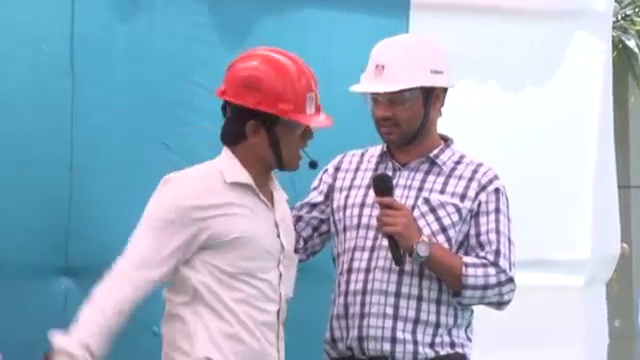helmet: (212, 45, 334, 130), (347, 31, 457, 96)
helmet_on: (211, 45, 334, 175), (345, 30, 458, 162)
person: (37, 46, 335, 360), (286, 31, 520, 360)
